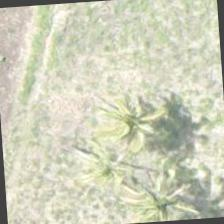Kelapa_Sawit: (90, 74, 186, 170), (59, 120, 155, 216), (111, 153, 206, 223)
